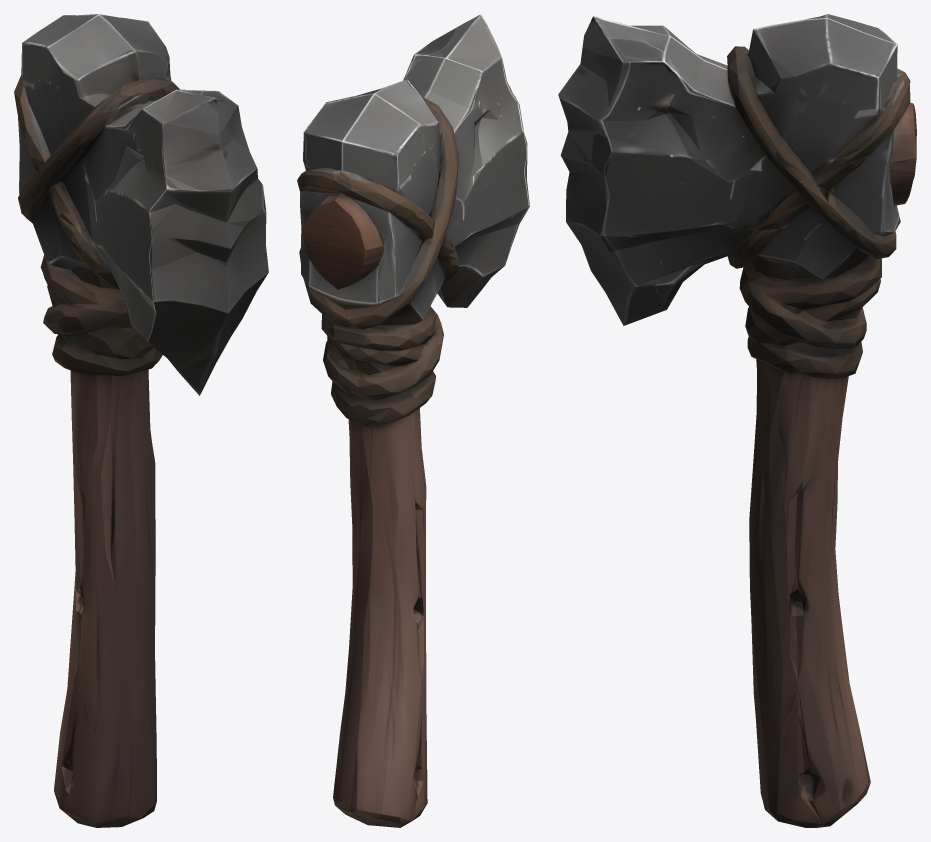
File: base_basic_pbr.fbx
3 renders of one model, left to right at view 1: azimuth 30°, elevation 25°; view 2: azimuth 150°, elevation 25°; view 3: azimuth 270°, elevation 25°, orthographic. The views are drawn at different scales.
Parts seen in each view (by area): view 1: model; view 2: model; view 3: model.
Part boxes in pixels (box(x1,y1,x2,y2)): model: box(14, 14, 268, 827); model: box(297, 14, 529, 827); model: box(558, 14, 916, 827).
Size of the model in its own units: 32.41 by 178 by 72.65.
1 material, 1 textured.
